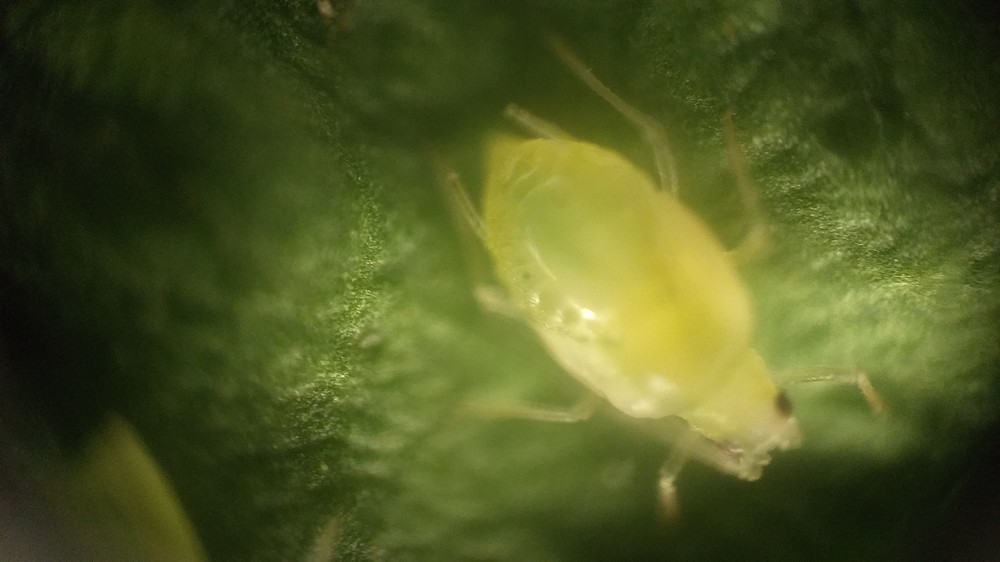Pulgon: (403, 61, 921, 542)
